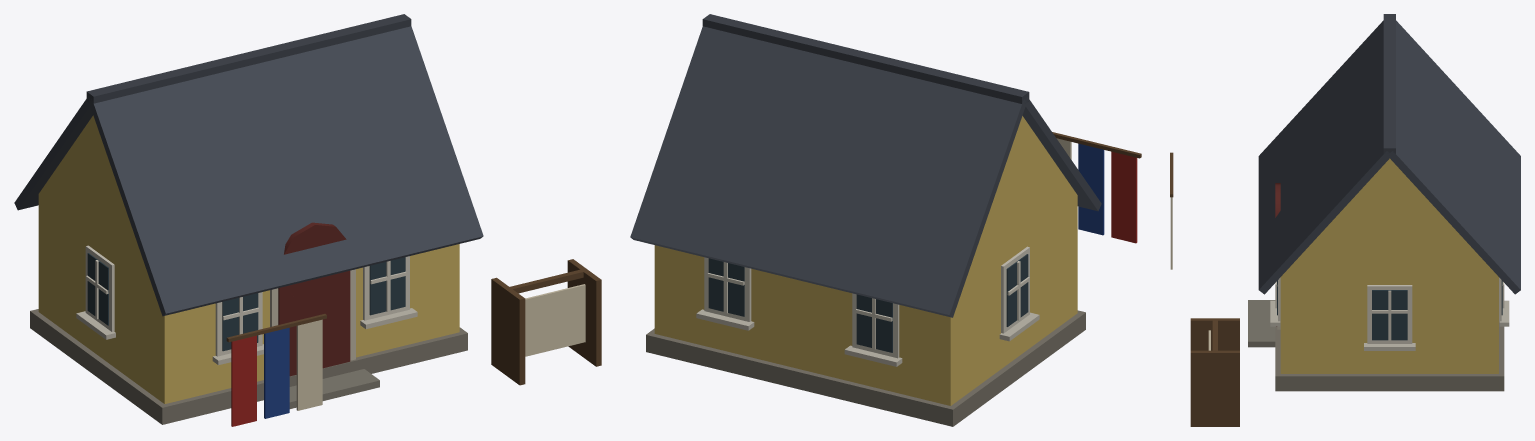
The model's file is procedural_weaver@4.glb.
3 views of the same model, side by side, from view 1: azimuth 30°, elevation 25°; view 2: azimuth 150°, elevation 25°; view 3: azimuth 270°, elevation 25° (orthographic). The views are drawn at different scales.
Visible parts, largest first — view 1: part_0; view 2: part_0; view 3: part_0.
Part boxes in pixels (x1,y1,x2,y2): part_0: (14,14,601,426); part_0: (630,14,1141,426); part_0: (1170,14,1520,426).
Bounding box in the file's own units: 7.26 × 4.97 × 6.43.
